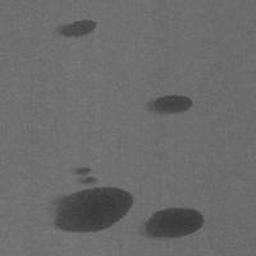Oil spot: (46, 166, 134, 234), (138, 207, 206, 242), (142, 93, 193, 116), (52, 19, 99, 40)
